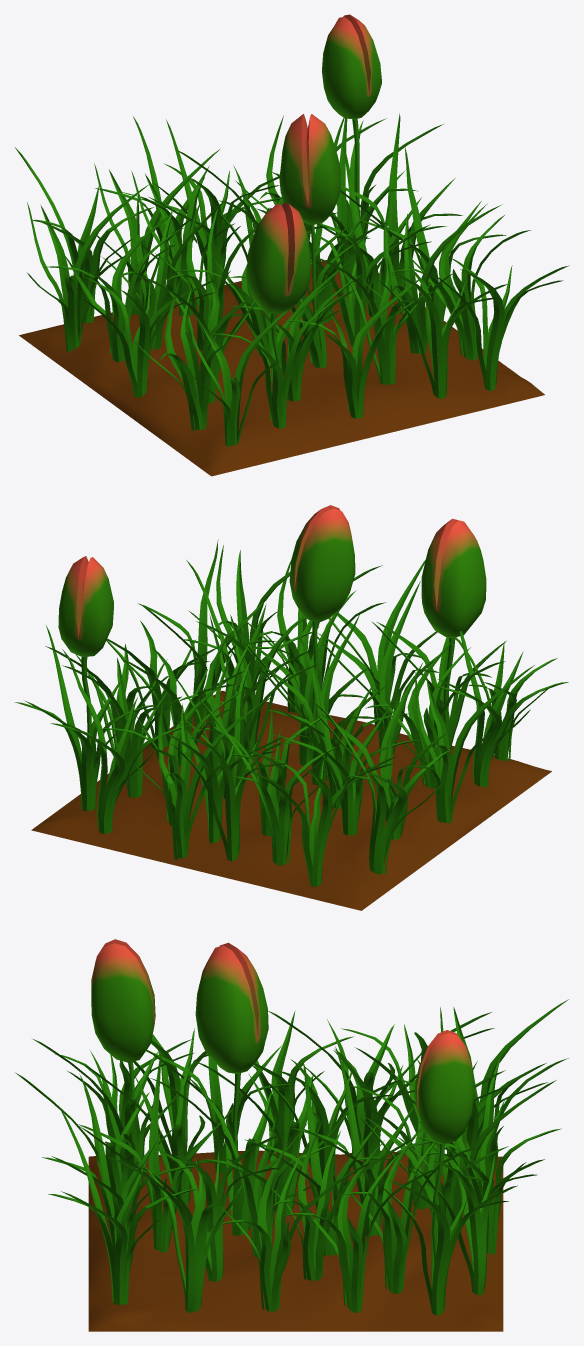
The model's file is red-tulip-p2-leaf.glb.
3 renders of one model, top to bottom at view 1: azimuth 30°, elevation 25°; view 2: azimuth 150°, elevation 25°; view 3: azimuth 270°, elevation 25°, orthographic. The views are drawn at different scales.
Parts seen in each view (by area): view 1: 2_nft_out_of_bloom; view 2: 2_nft_out_of_bloom; view 3: 2_nft_out_of_bloom.
Boxes of the visible parts, bbox=[...] form: 2_nft_out_of_bloom: bbox=[15, 14, 569, 476]; 2_nft_out_of_bloom: bbox=[14, 505, 568, 910]; 2_nft_out_of_bloom: bbox=[15, 939, 568, 1331].
Size of the model in its own units: 0.8607 by 0.5516 by 0.9388.
3 materials, 1 textured.
